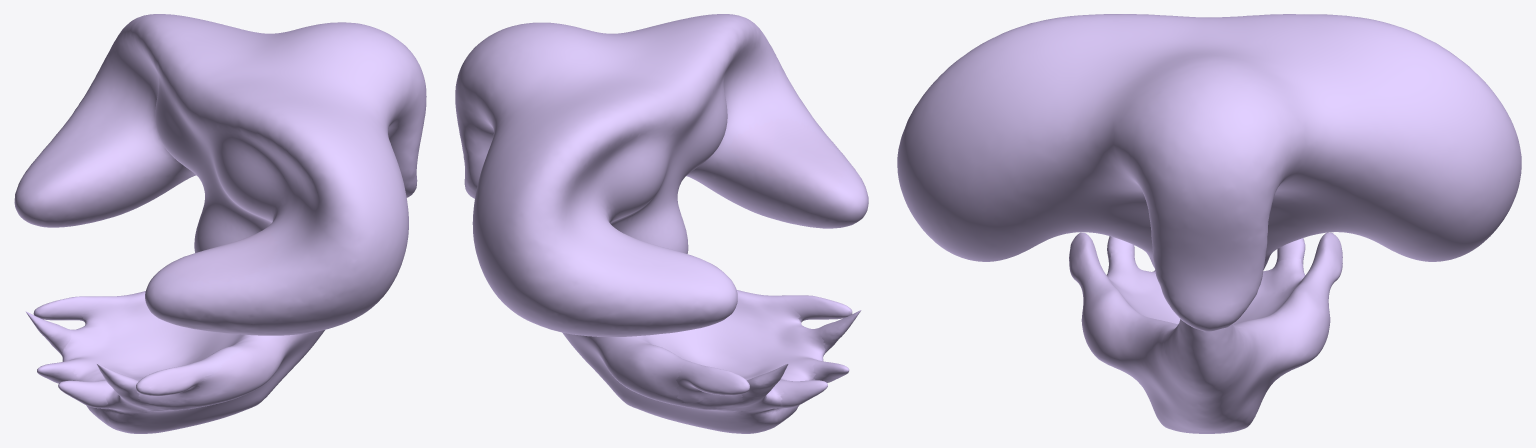
The model's file is charger.glb.
The picture shows the model from 3 angles, left to right: view 1: azimuth 30°, elevation 25°; view 2: azimuth 150°, elevation 25°; view 3: azimuth 270°, elevation 25°; orthographic projection. The views are drawn at different scales.
Visible parts, largest first — view 1: Cube, Cube.001; view 2: Cube, Cube.001; view 3: Cube, Cube.001.
Part boxes in pixels (bbox=[...]): Cube: bbox=[14, 14, 426, 335]; Cube.001: bbox=[25, 291, 324, 433]; Cube: bbox=[455, 14, 868, 336]; Cube.001: bbox=[562, 290, 861, 433]; Cube: bbox=[897, 14, 1521, 331]; Cube.001: bbox=[1069, 232, 1342, 433].
Bounding box in the file's own units: 6.24 × 5.65 × 7.43.
1 material, 1 textured.
